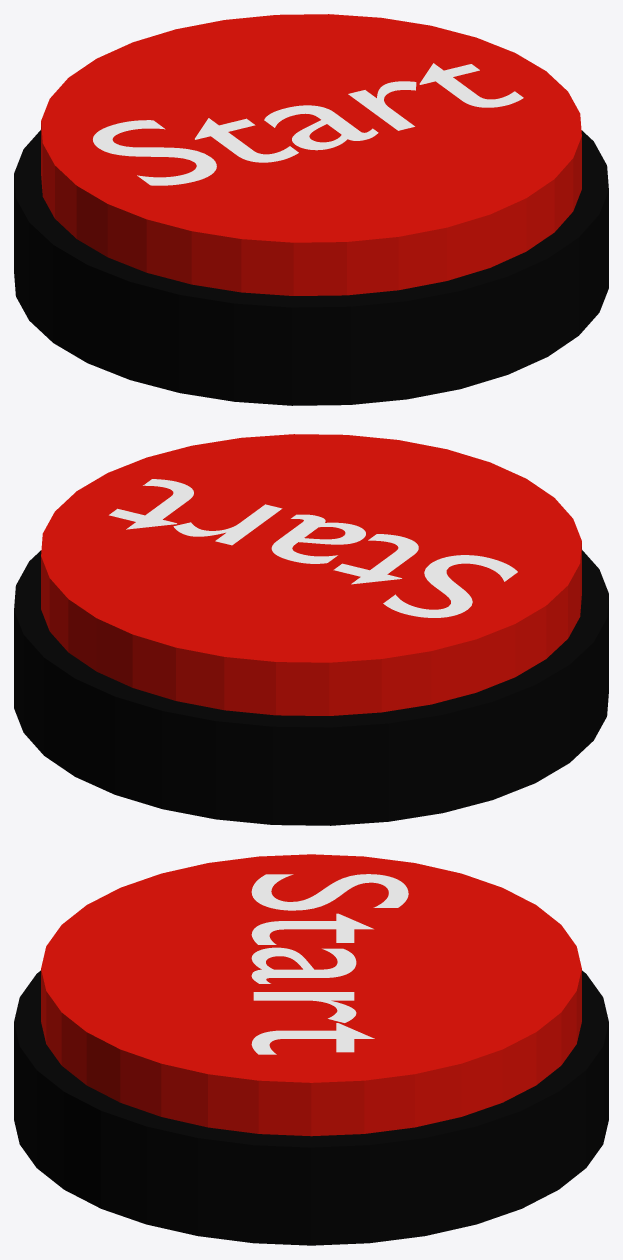
The model's file is button_v2.gltf.
The picture shows the model from 3 angles, top to bottom: view 1: azimuth 30°, elevation 25°; view 2: azimuth 150°, elevation 25°; view 3: azimuth 270°, elevation 25°; orthographic projection.
Visible parts, largest first — view 1: Button; view 2: Button; view 3: Button.
Boxes of the visible parts, box(x1,y1,x2,y2) form: Button: box(14, 14, 608, 405); Button: box(14, 434, 608, 825); Button: box(14, 854, 608, 1245).
Size of the model in its own units: 2.2 by 0.6362 by 2.2.
